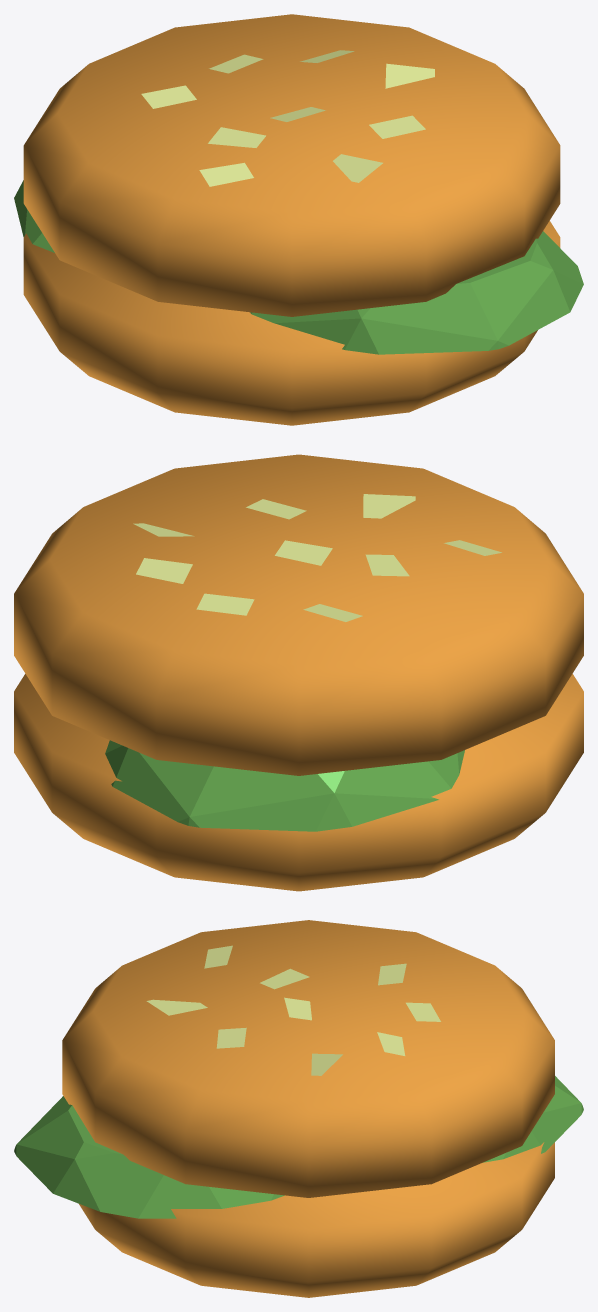
File: Burger(LettuceNoMeat).glb
3 views of the same model, one above another, from view 1: azimuth 30°, elevation 25°; view 2: azimuth 150°, elevation 25°; view 3: azimuth 270°, elevation 25° (orthographic). The views are drawn at different scales.
Visible parts, largest first — view 1: Cylinder.036; view 2: Cylinder.036; view 3: Cylinder.036.
Boxes of the visible parts, <box> form: Cylinder.036: <box>14,14,583,425</box>; Cylinder.036: <box>14,454,583,891</box>; Cylinder.036: <box>14,920,583,1297</box>.
Bounding box in the file's own units: 0.4718 × 0.2148 × 0.5456.
